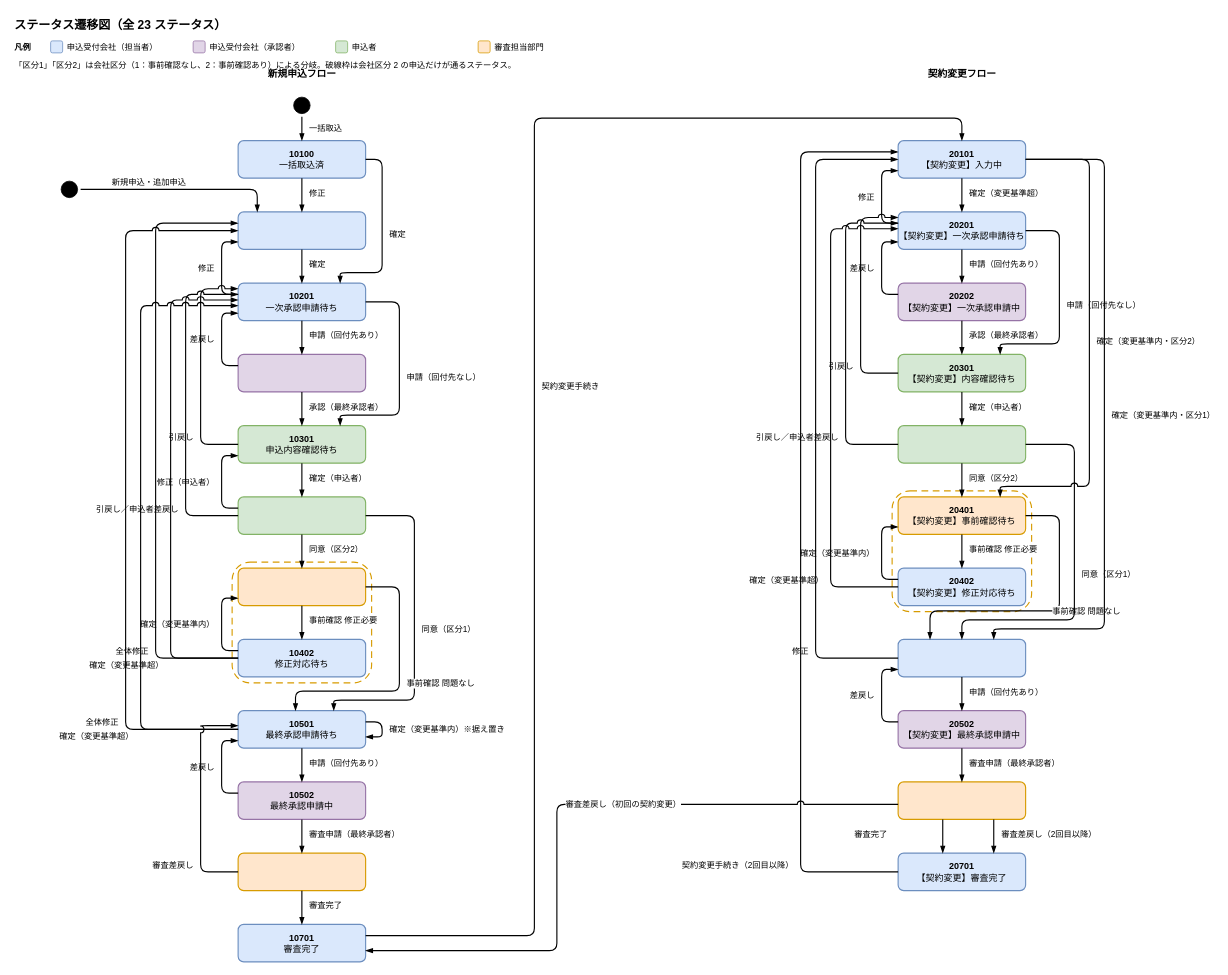
Image size: 1228x975. Some labels were removed from this diagram. Each missing label, with the box of its shape:
10101 申込入力中: (237, 211, 366, 250)
10202 一次承認申請中: (237, 353, 366, 392)
10302 申込同意確認待ち: (237, 496, 366, 535)
10401 事前確認待ち: (237, 567, 366, 606)
10601 審査中: (237, 852, 366, 891)
20302 【契約変更】同意確認待ち: (897, 425, 1026, 463)
20501 【契約変更】最終承認申請待ち: (897, 638, 1026, 677)
20601 【契約変更】審査中: (897, 781, 1026, 820)
